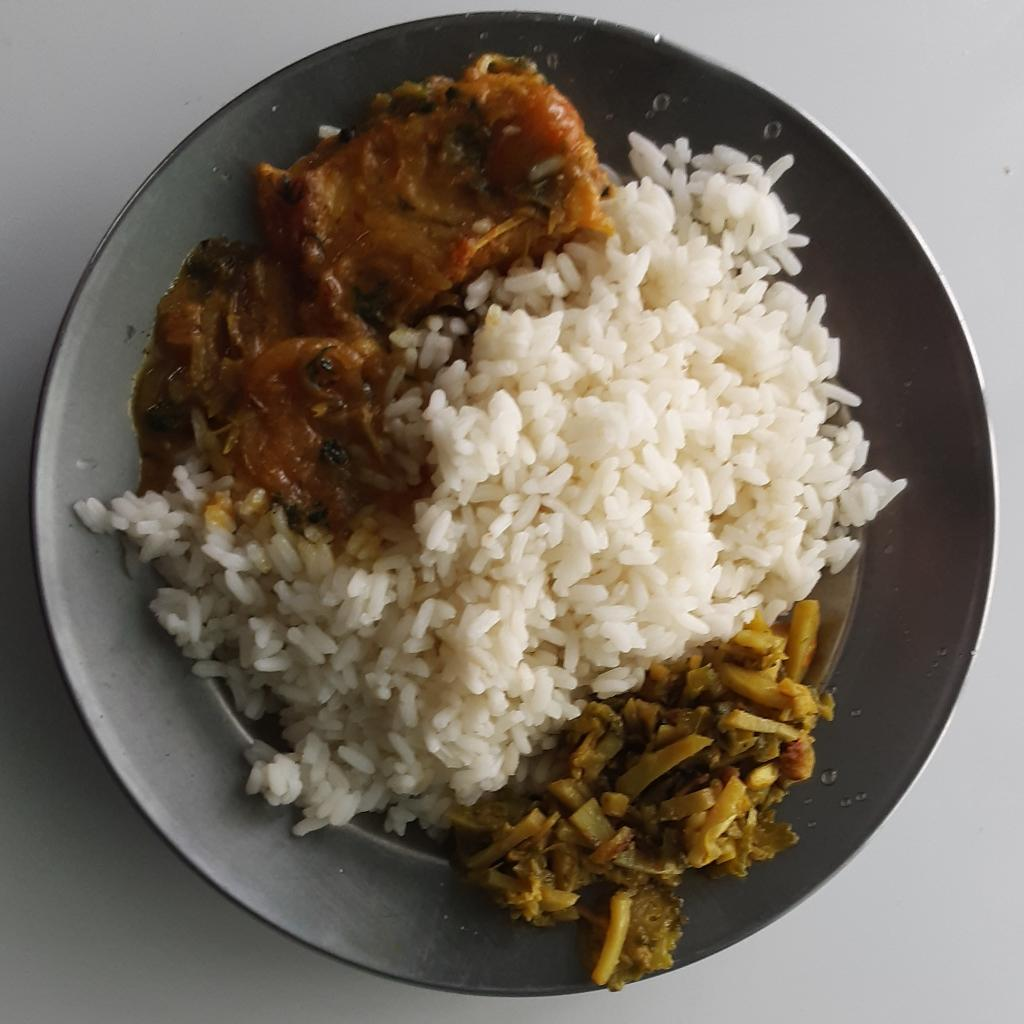fish: (136, 52, 603, 516)
khichuri: (453, 594, 839, 993)
rice: (72, 122, 917, 846)
